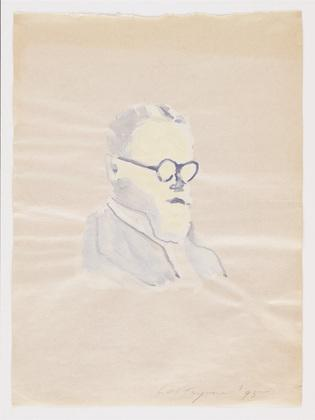person: (88, 101, 229, 293)
